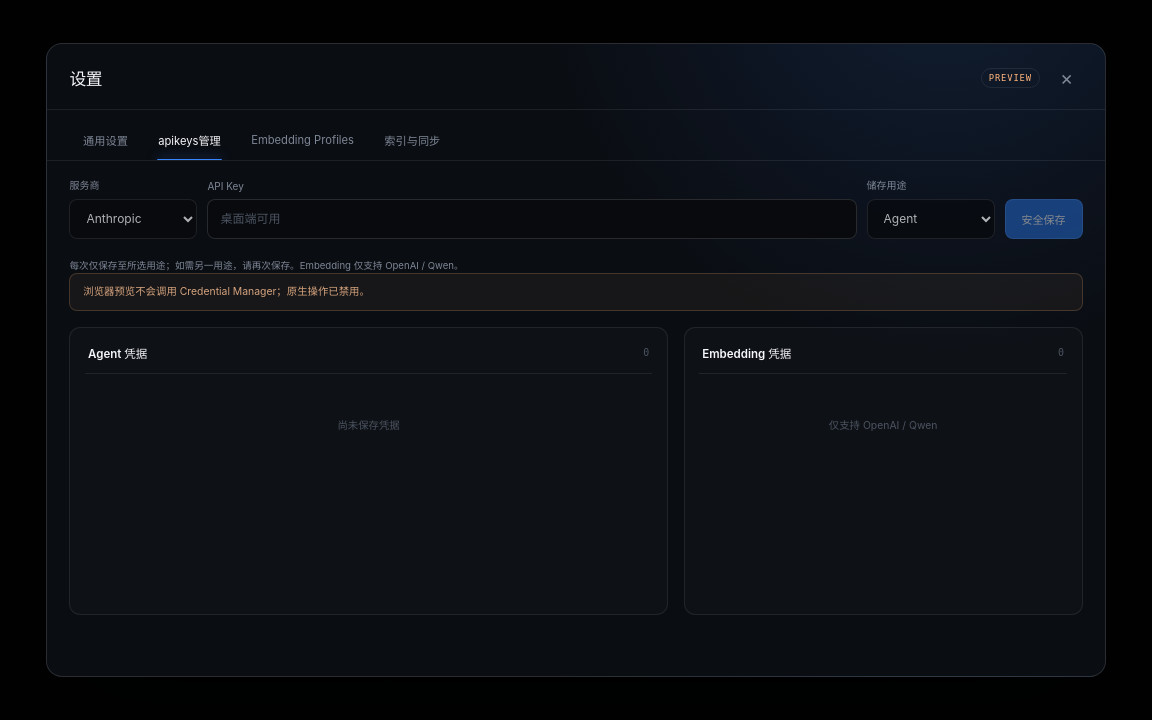
Test: SettingsDialog browser safety › changes the application language, persists it and can return to credentials
The image size is (1152, 720).
Click the button "通用设置": (106, 140) [70,120,142,160]
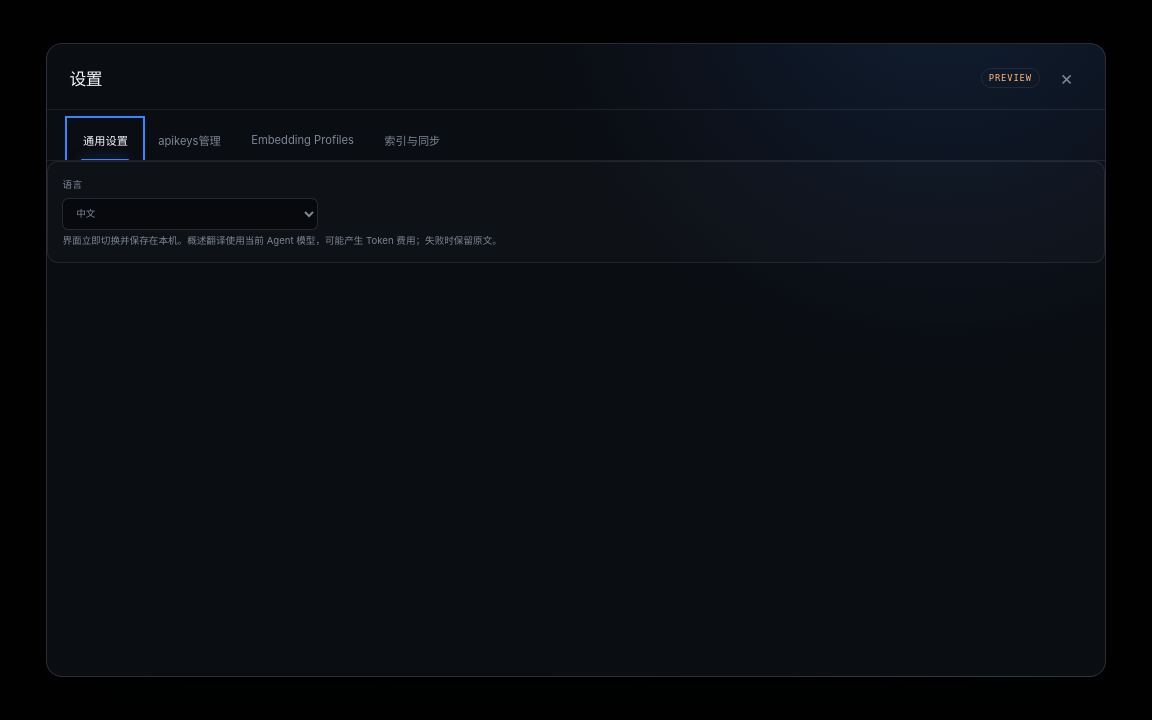
Result: the button "通用设置" is marked as current at [70,120,142,160]
Select "English" in the dropdown labelled "语言": (190, 214) [62,198,318,230]
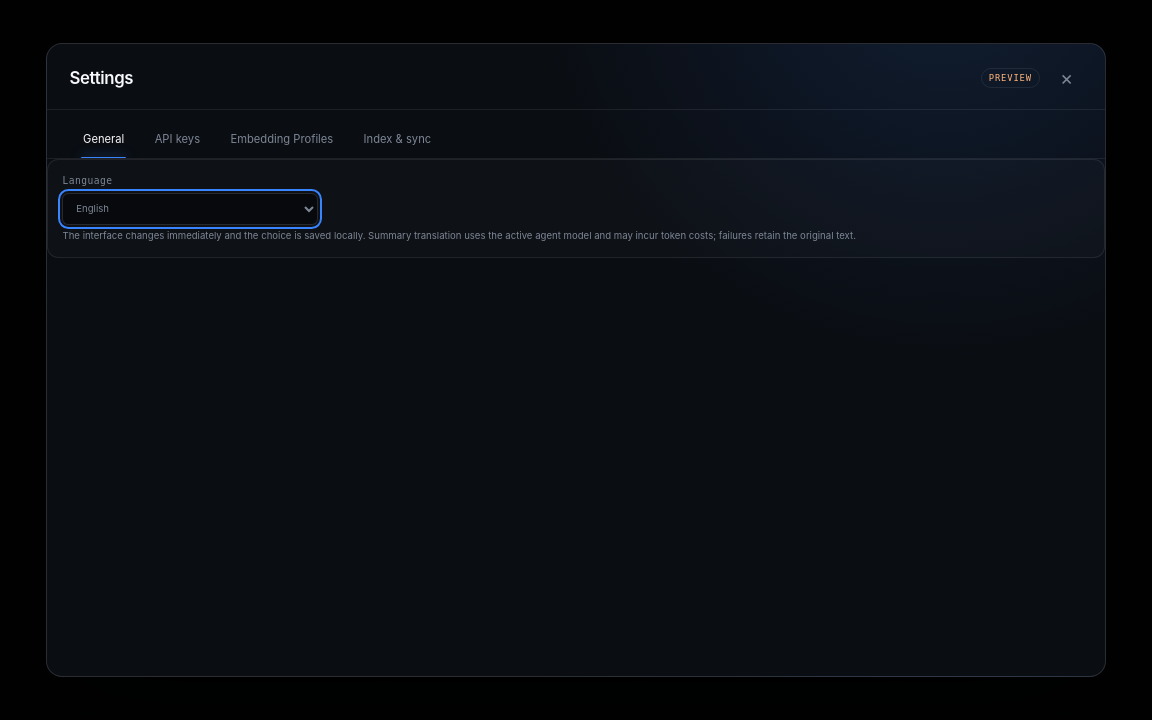
Result: the button "General" is marked as current at [70,120,138,158]
Select "中文" in the dropdown labelled "Language": (190, 209) [62,193,318,225]
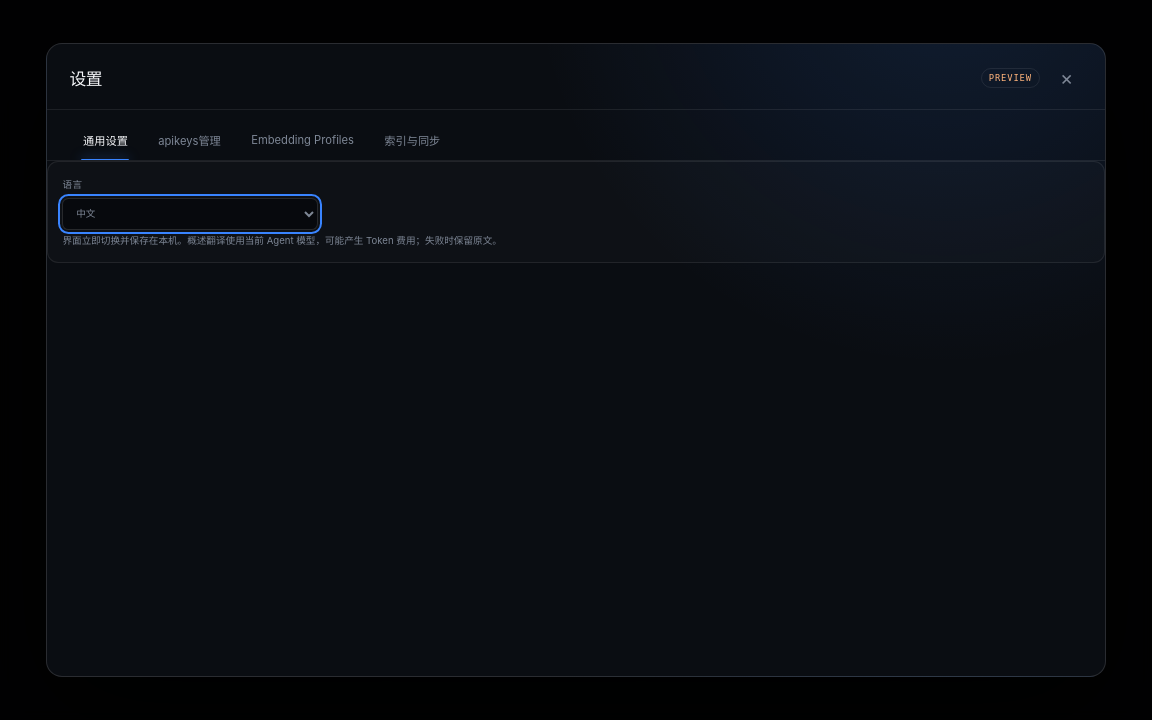
Click the button "apikeys管理": (190, 140) [145,120,234,160]
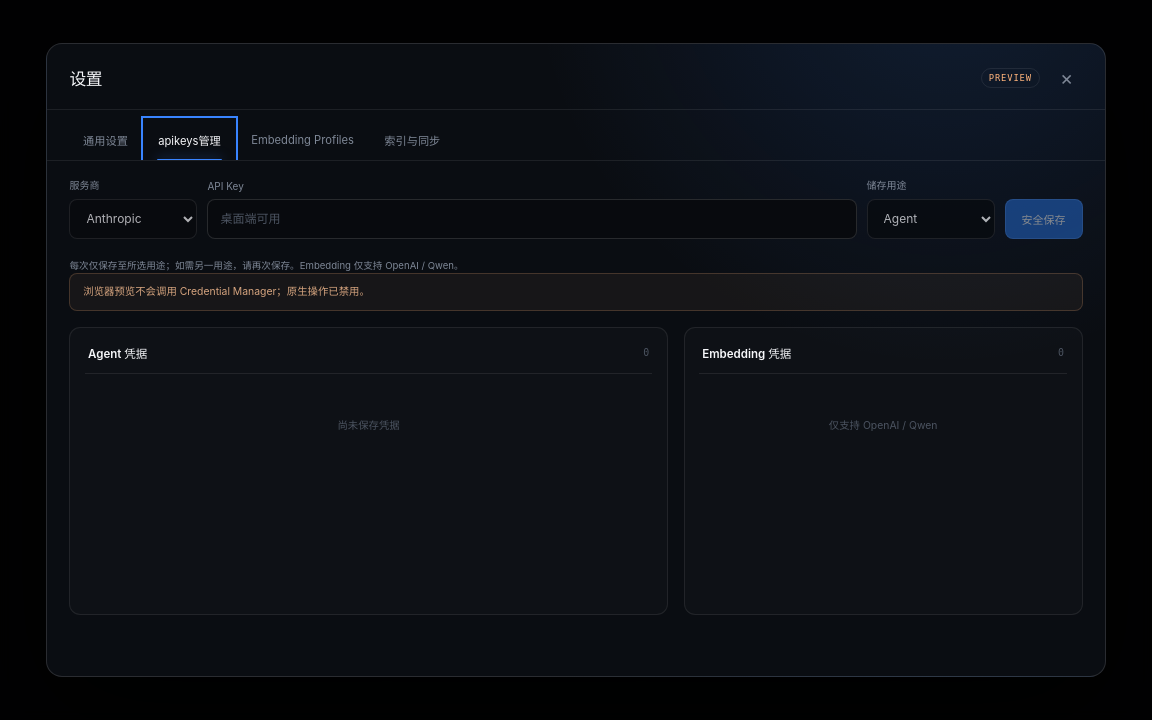
Result: the heading "设置" is shown at [70,66,102,90]
Result: the password field with placeholder "桌面端可用" is disabled at [208,199,856,239]
